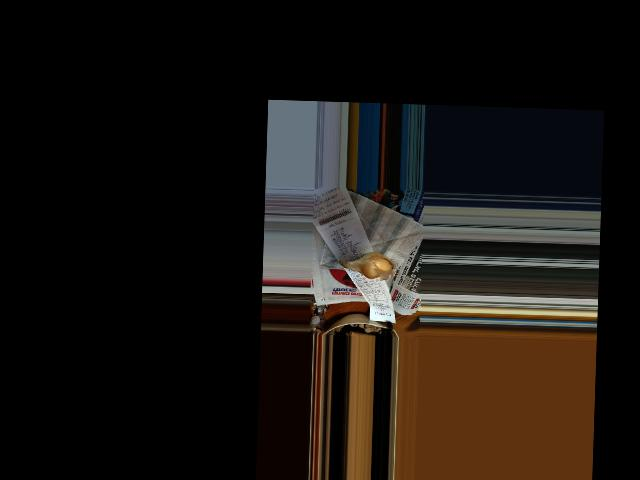onion: (353, 252, 393, 277)
